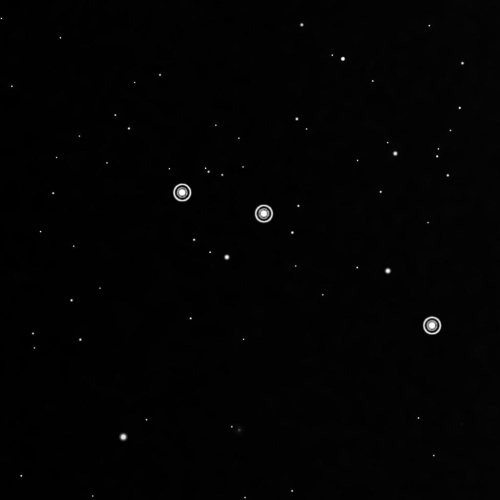vulpecula: (168, 178, 446, 341)
